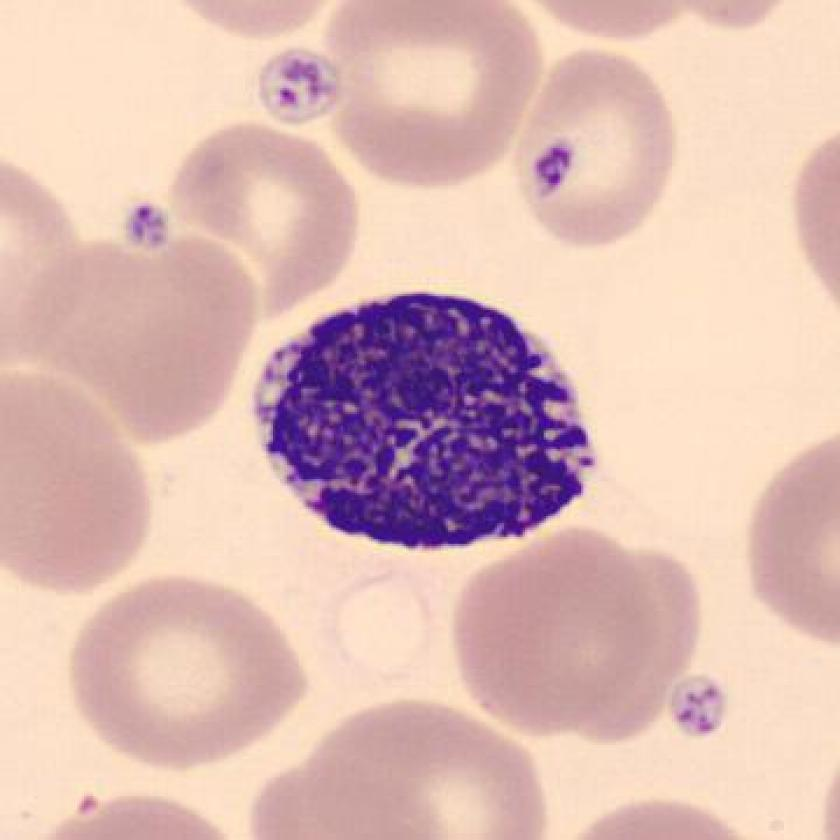basophil: (260, 291, 612, 564)
